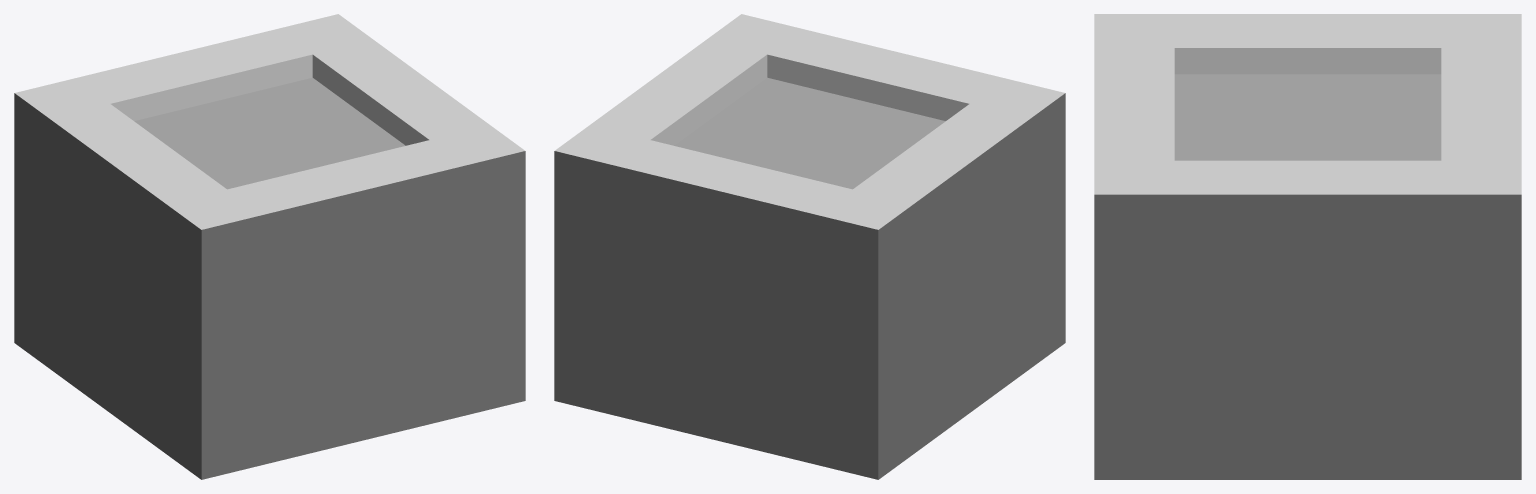
The model's file is Iron001.fbx.
The picture shows the model from 3 angles, left to right: view 1: azimuth 30°, elevation 25°; view 2: azimuth 150°, elevation 25°; view 3: azimuth 270°, elevation 25°; orthographic projection. The views are drawn at different scales.
Parts seen in each view (by area): view 1: pCube1; view 2: pCube1; view 3: pCube1.
Boxes of the visible parts, x1,y1,x2,y2 form: pCube1: (14,14,525,479); pCube1: (554,14,1065,479); pCube1: (1094,14,1521,479).
Bounding box in the file's own units: 42.01 × 30.98 × 42.01.
